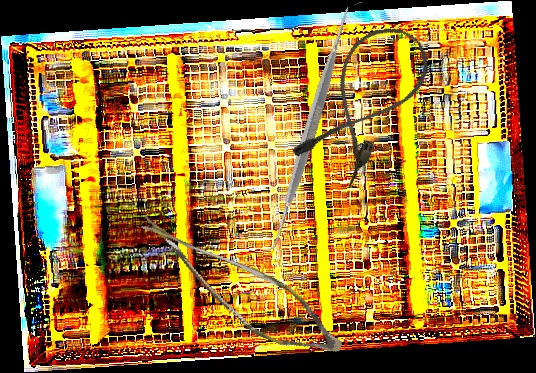Cannula: (286, 11, 442, 192)
Micro Scissor: (113, 213, 360, 366)
Spatula Surgical: (184, 1, 437, 255)
